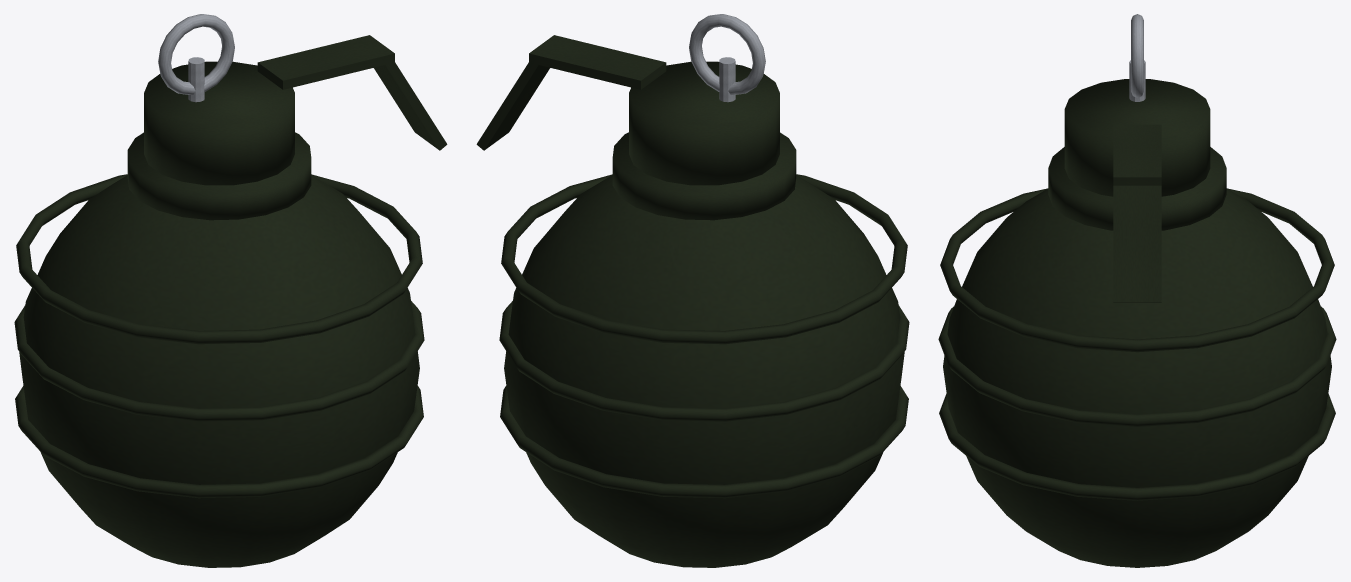
Rendered from frag_grenade.fbx.
3 views of the same model, side by side, from view 1: azimuth 30°, elevation 25°; view 2: azimuth 150°, elevation 25°; view 3: azimuth 270°, elevation 25° (orthographic). The views are drawn at different scales.
Visible parts, largest first — view 1: FragGrenadeMesh; view 2: FragGrenadeMesh; view 3: FragGrenadeMesh.
Boxes of the visible parts, bbox=[...] form: FragGrenadeMesh: bbox=[14, 14, 447, 567]; FragGrenadeMesh: bbox=[476, 14, 909, 567]; FragGrenadeMesh: bbox=[938, 14, 1336, 567].
Size of the model in its own units: 6.88 by 6.24 by 9.03.
